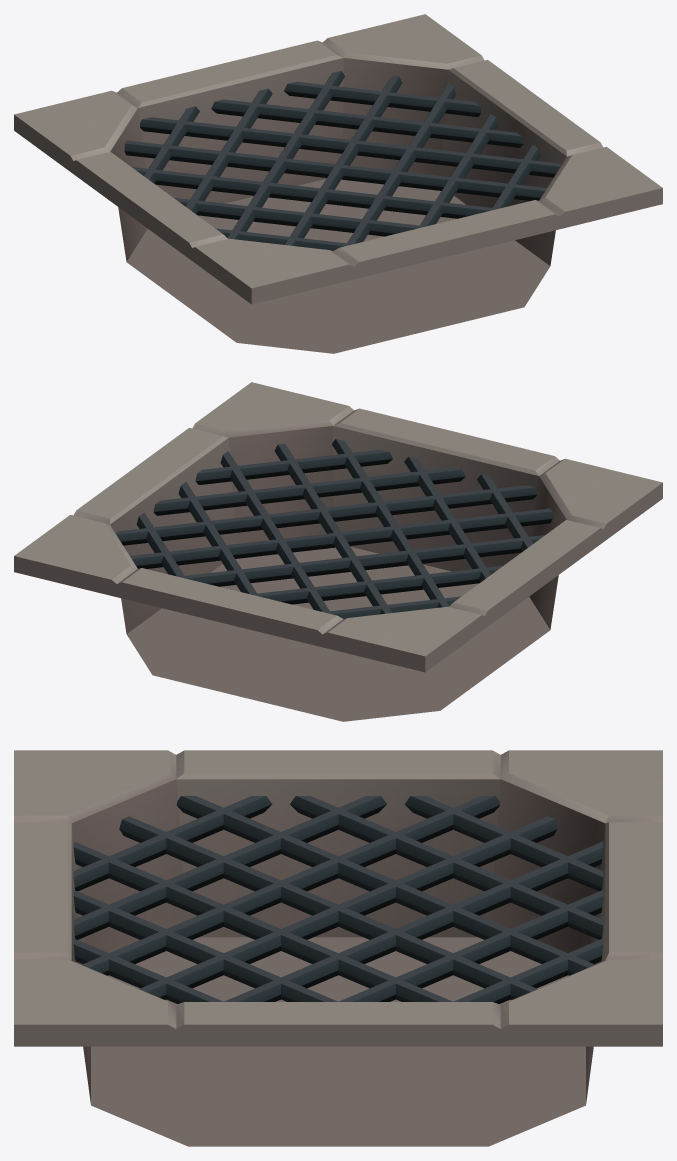
The model's file is floor-tile-big-grate-gltf.glb.
3 views of the same model, one above another, from view 1: azimuth 30°, elevation 25°; view 2: azimuth 150°, elevation 25°; view 3: azimuth 270°, elevation 25° (orthographic). The views are drawn at different scales.
Parts seen in each view (by area): view 1: floor_tile_big_grate; view 2: floor_tile_big_grate; view 3: floor_tile_big_grate.
Part boxes in pixels (x1,y1,x2,y2): floor_tile_big_grate: (14,14,662,353); floor_tile_big_grate: (14,382,662,721); floor_tile_big_grate: (14,750,662,1146).
Size of the model in its own units: 4 by 1.05 by 4.
1 material, 1 textured.
